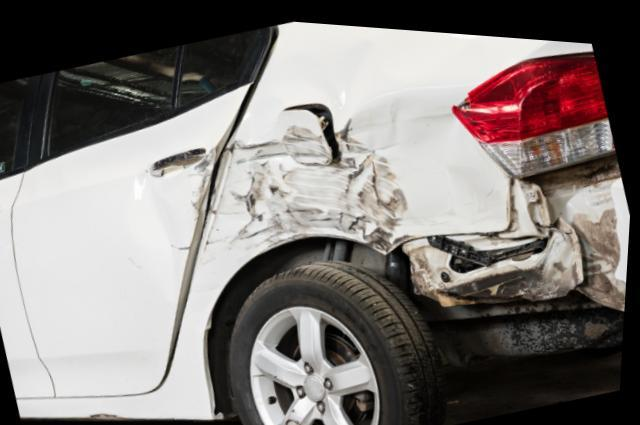dent: (238, 83, 471, 241), (155, 139, 216, 252)
dislocated part: (393, 138, 632, 313)
